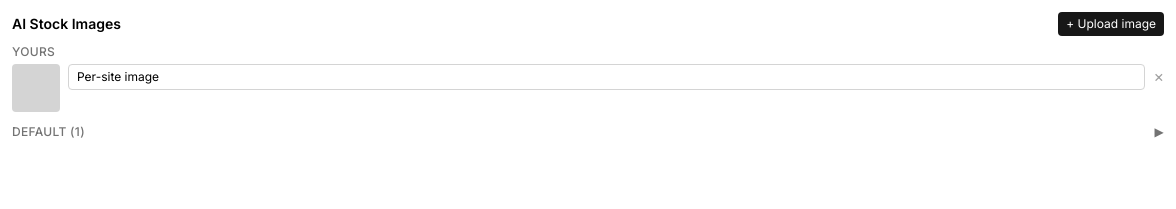
Test: AiStockImagesSection › expands the Default section when its header is clicked
This screenshot has width=1176, height=209.
Expected: the text "Default image" is not shown
Click the text "Default (1)".
click(48, 132)  # box [12, 124, 85, 140]
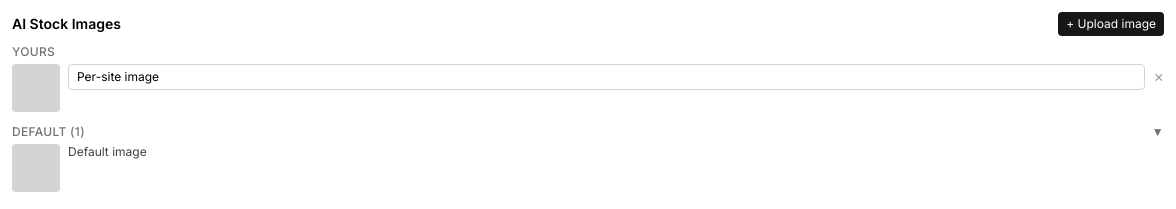
Result: the text "Default image" is shown at [68, 144, 147, 159]
